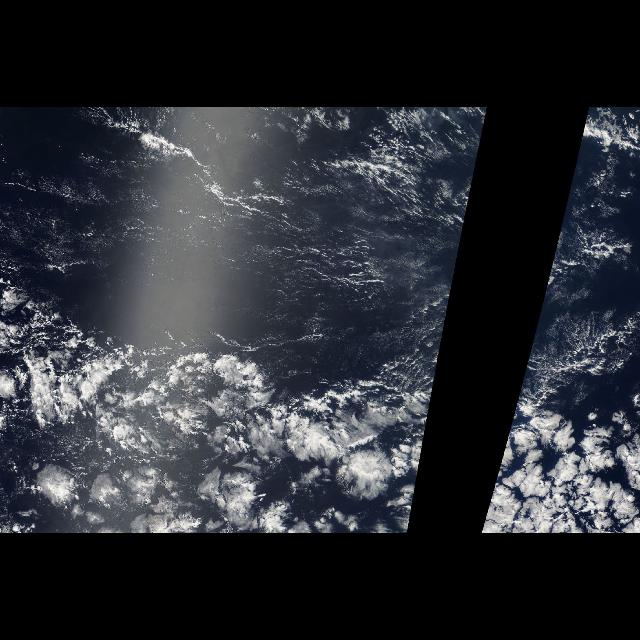Flower: (27, 454, 259, 532), (492, 396, 632, 500)
Sugar: (2, 142, 456, 378), (523, 274, 635, 378)
